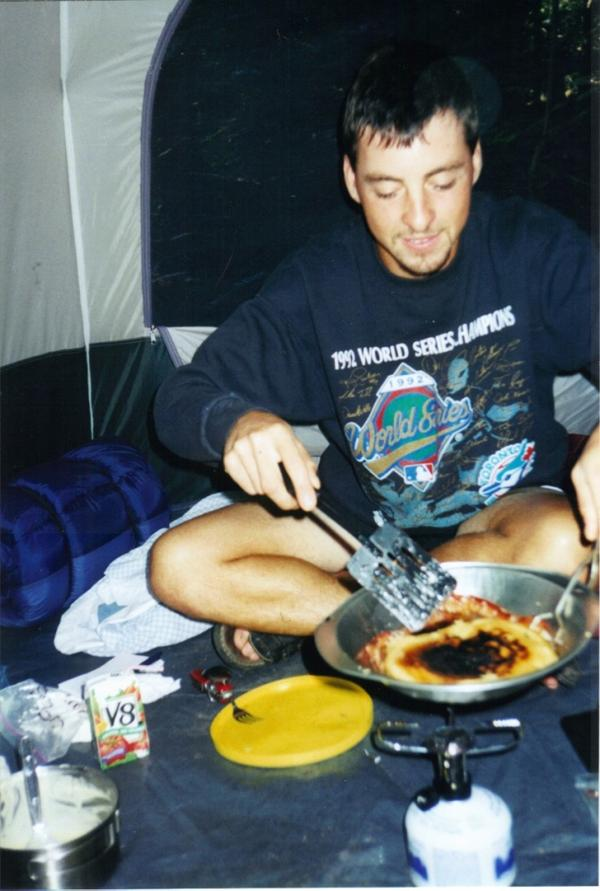person: (146, 38, 600, 639)
